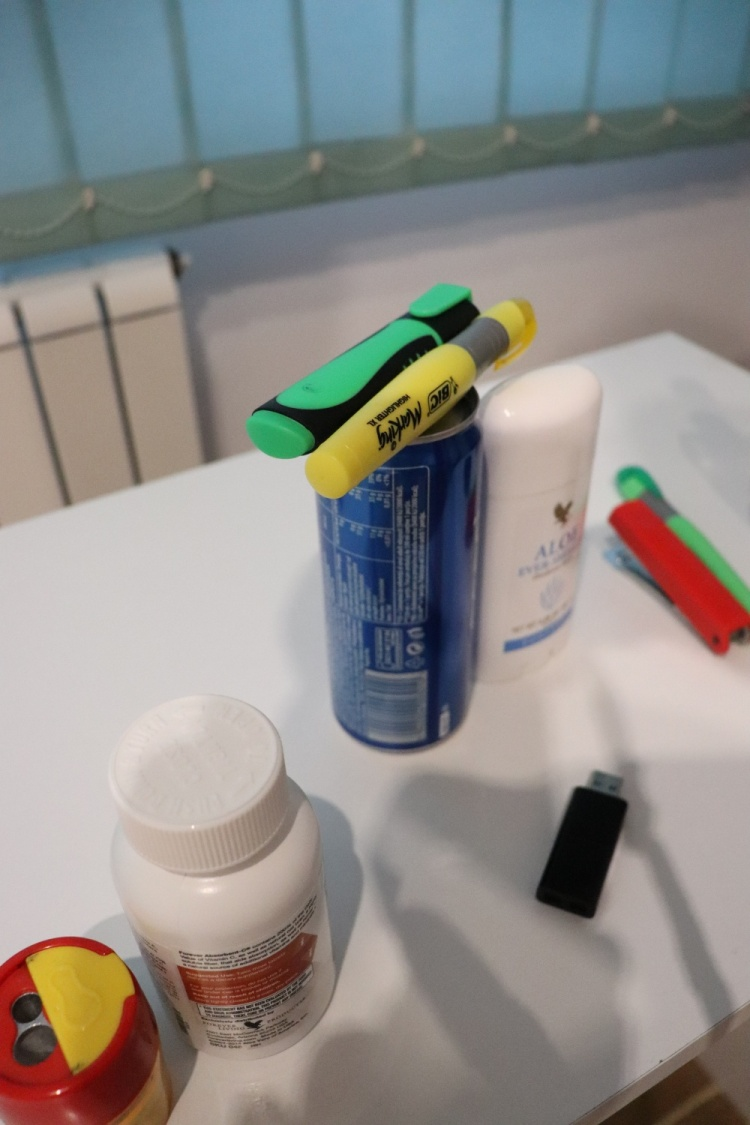pepsi: (297, 365, 491, 772)
